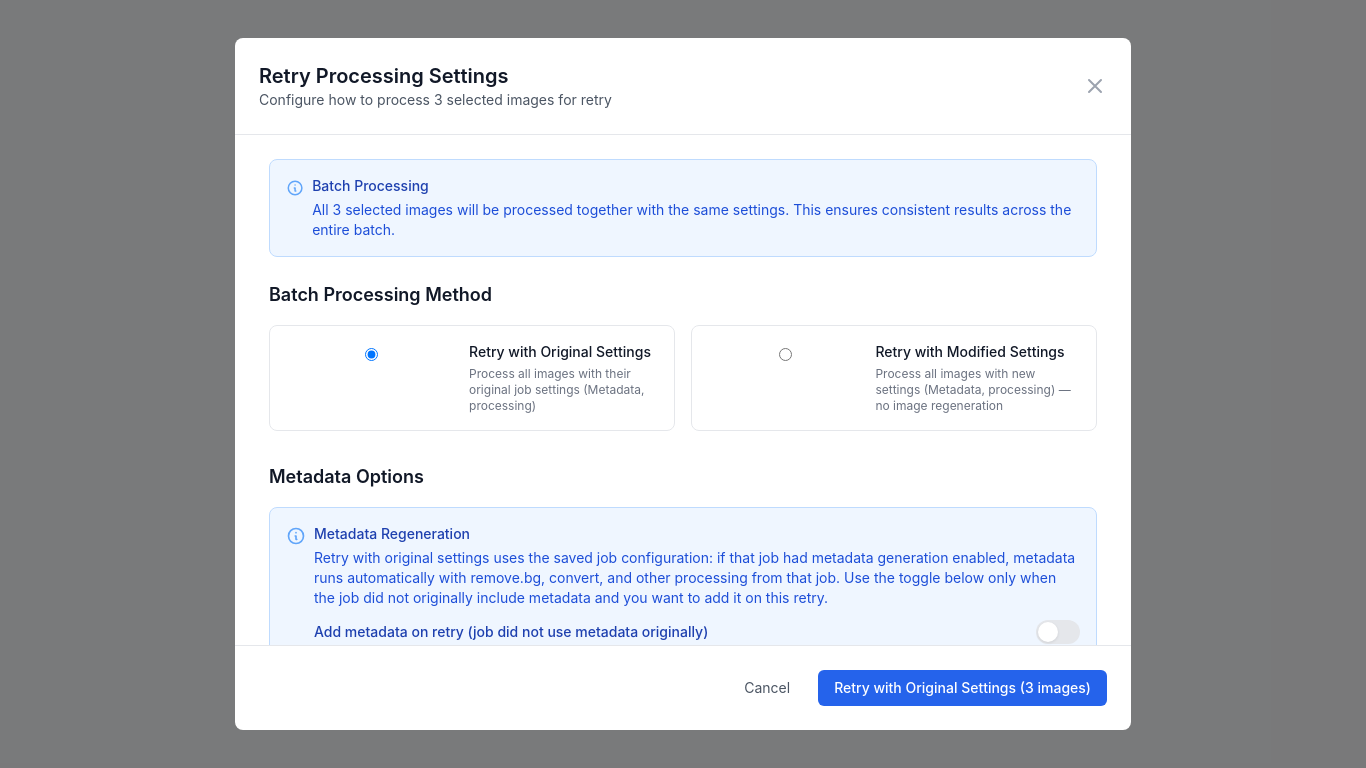
Test: ProcessingSettingsModal › Modified Settings Section › displays important note about image regeneration
The image size is (1366, 768).
Select modified settings to show the section
Click the radio button with aria-label "Retry with Modified Settings". click: (786, 355)
box: x1=708 y1=348 x2=863 y2=361
(page scrolled)
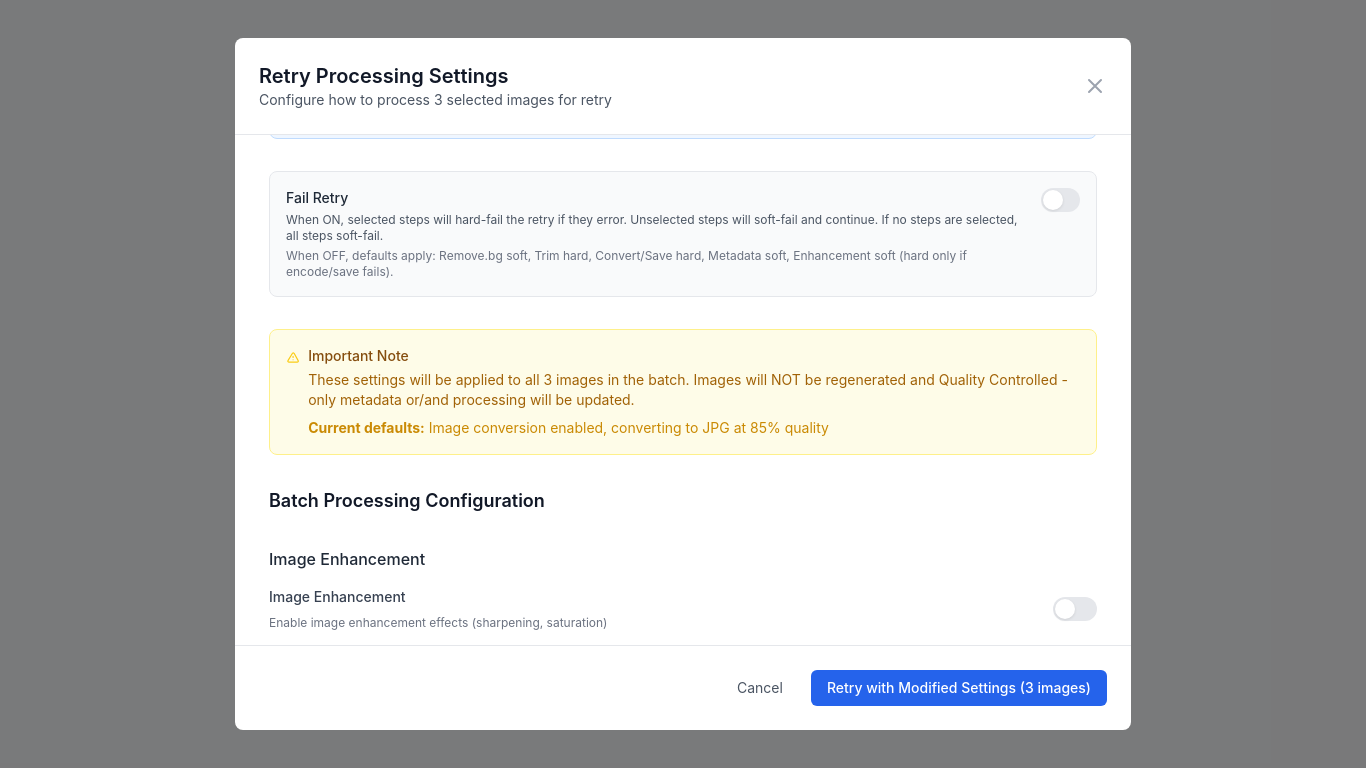
Expected: the heading "Important Note" is shown, x1=308 y1=347 x2=409 y2=364
Expected: the text "Images will NOT be regenerated and Quality Controlled" is shown, x1=308 y1=371 x2=1068 y2=408
